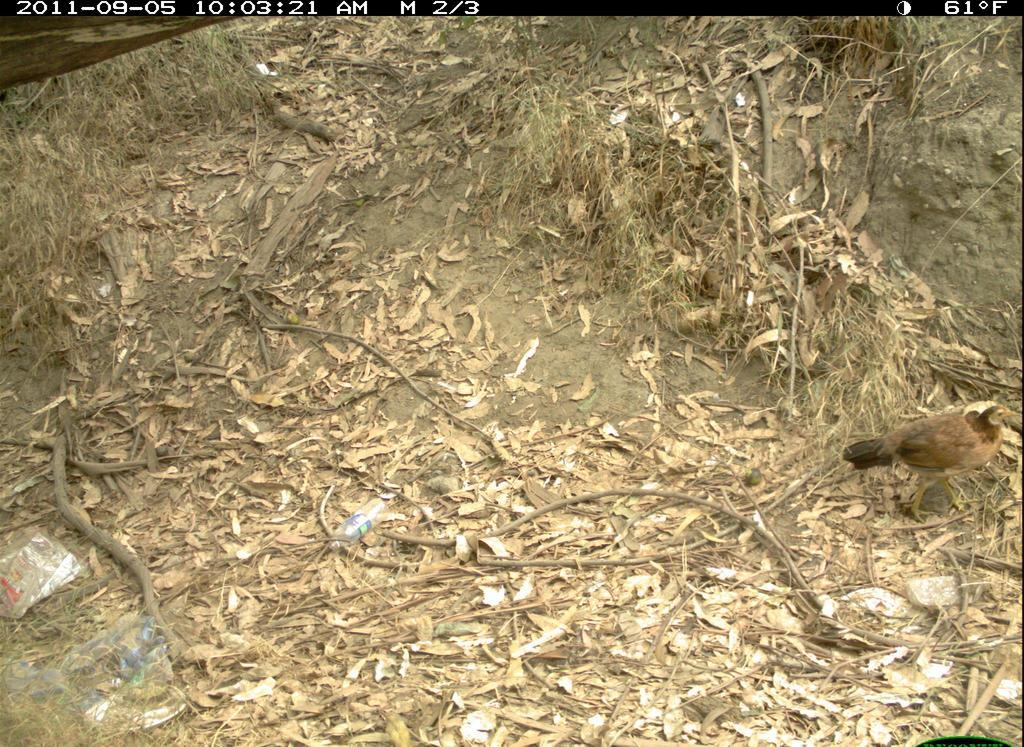bird: (834, 395, 1019, 541)
